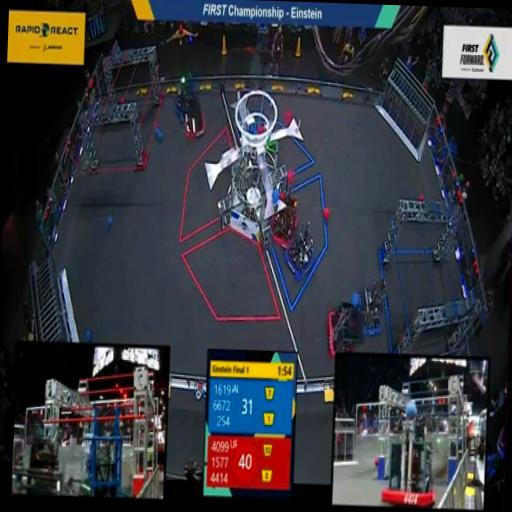robot: (266, 185, 301, 249), (352, 275, 387, 339), (326, 301, 364, 359), (284, 218, 314, 284), (170, 66, 198, 118), (181, 99, 210, 142)
